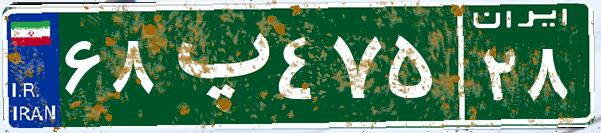2: (475, 38, 525, 113)
4: (273, 28, 330, 110)
5: (385, 28, 445, 110)
6: (57, 26, 110, 107)
7: (330, 28, 385, 110)
8: (110, 28, 158, 105), (525, 38, 570, 115)
پ: (158, 15, 273, 115)
